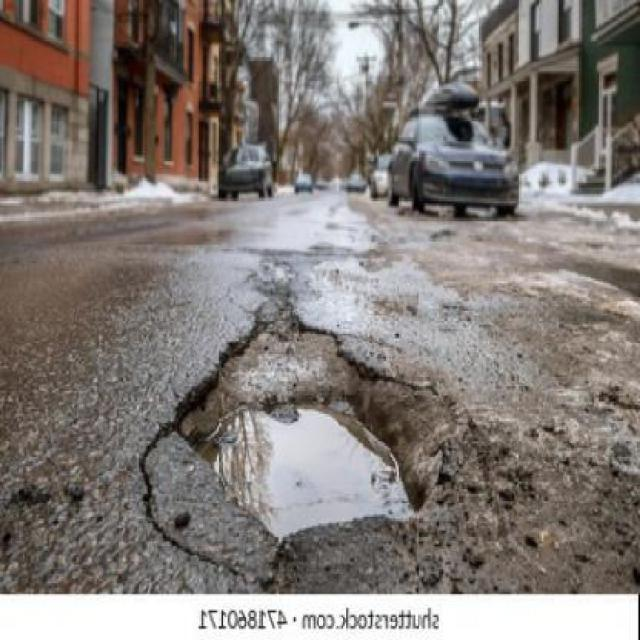pothole: (172, 299, 440, 544)
